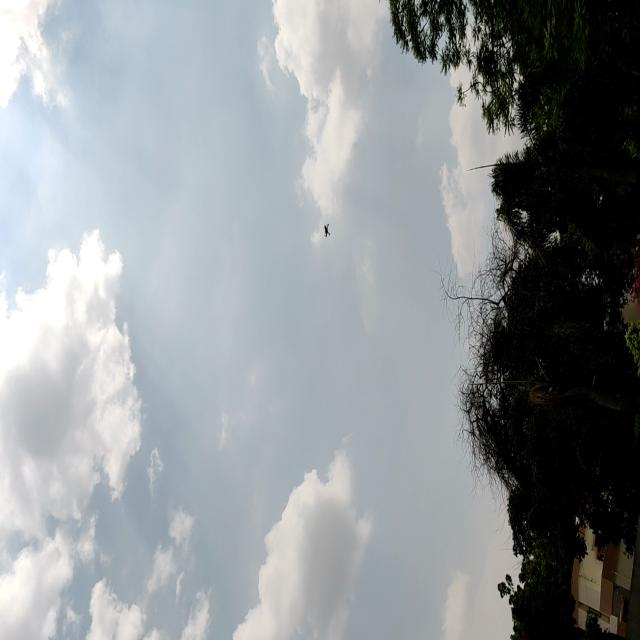drone: (321, 212, 333, 243)
